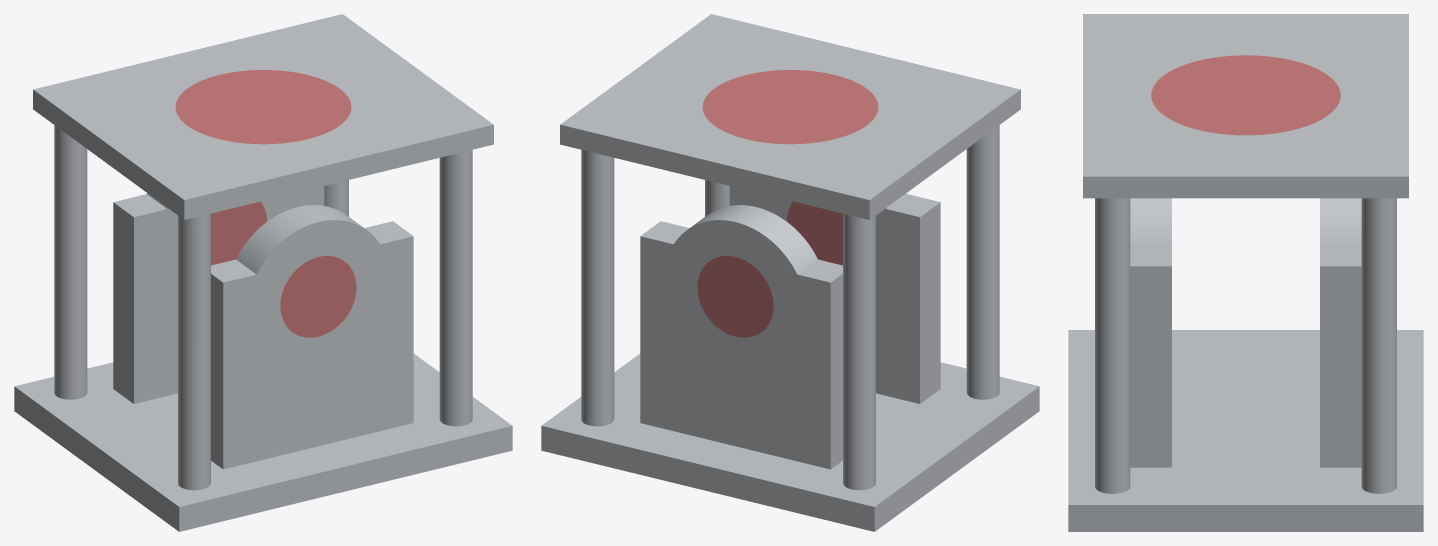
File: step_04.glb
3 views of the same model, side by side, from view 1: azimuth 30°, elevation 25°; view 2: azimuth 150°, elevation 25°; view 3: azimuth 270°, elevation 25° (orthographic). The views are drawn at different scales.
Visible parts, largest first — view 1: part__crankcase frame, removed__crankcase frame; view 2: part__crankcase frame, removed__crankcase frame; view 3: part__crankcase frame, removed__crankcase frame.
Part boxes in pixels (bbox=[...]): part__crankcase frame: bbox=[14, 14, 512, 531]; removed__crankcase frame: bbox=[175, 70, 356, 337]; part__crankcase frame: bbox=[541, 14, 1039, 531]; removed__crankcase frame: bbox=[697, 70, 878, 337]; part__crankcase frame: bbox=[1068, 14, 1423, 531]; removed__crankcase frame: bbox=[1151, 55, 1340, 135].
Bounding box in the file's own units: 140 × 130 × 120.
